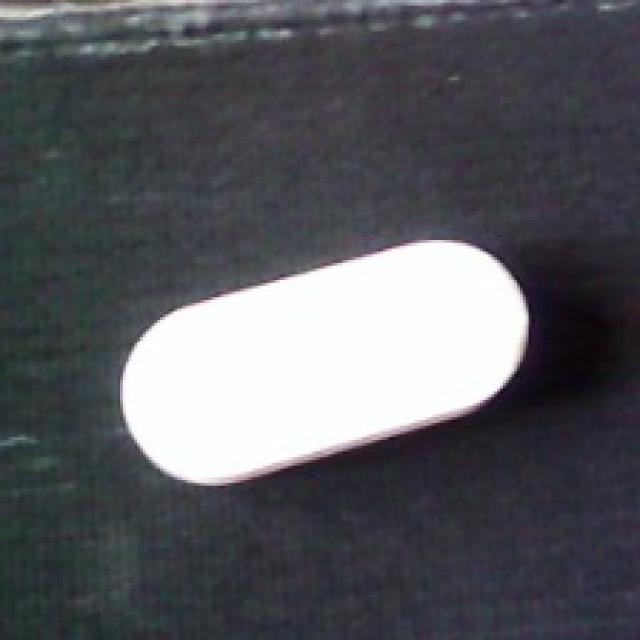no-defect: (114, 235, 536, 489)
